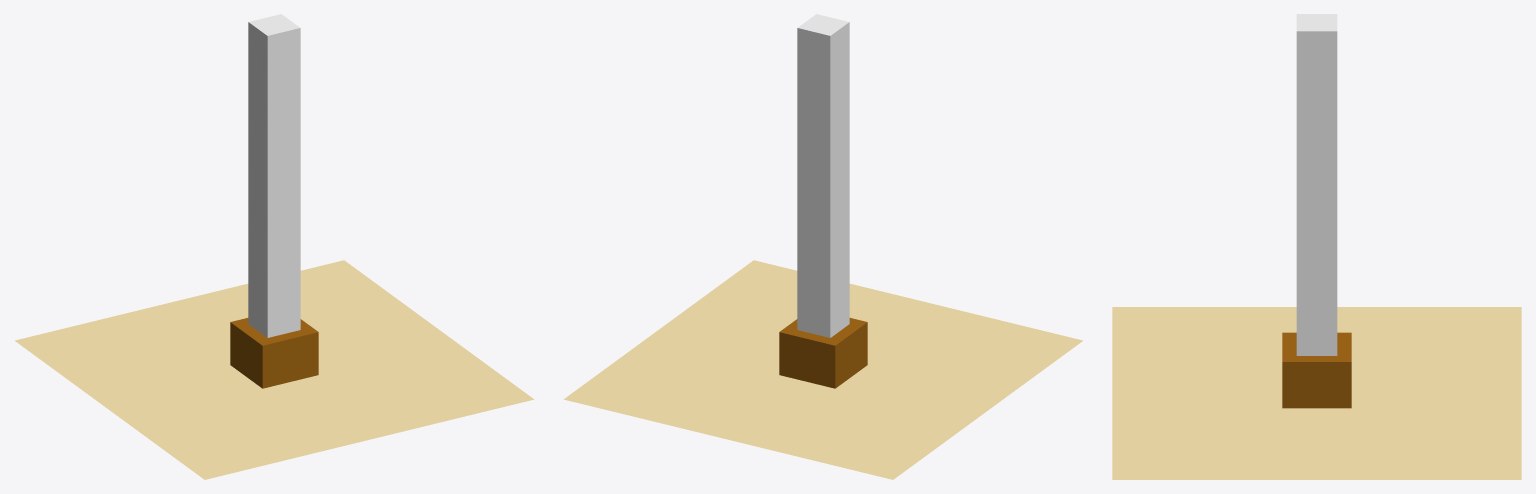
Rendered from I_Floor_Pillar.fbx.
3 views of the same model, side by side, from view 1: azimuth 30°, elevation 25°; view 2: azimuth 150°, elevation 25°; view 3: azimuth 270°, elevation 25° (orthographic). The views are drawn at different scales.
Visible parts, largest first — view 1: I_Floor_Pillar; view 2: I_Floor_Pillar; view 3: I_Floor_Pillar.
Part boxes in pixels (left/top/right/bottom): I_Floor_Pillar: left=15, top=14, right=534, bottom=479; I_Floor_Pillar: left=563, top=14, right=1082, bottom=479; I_Floor_Pillar: left=1112, top=14, right=1521, bottom=479.
Bounding box in the file's own units: 200 × 200 × 200.
1 material, 1 textured.
